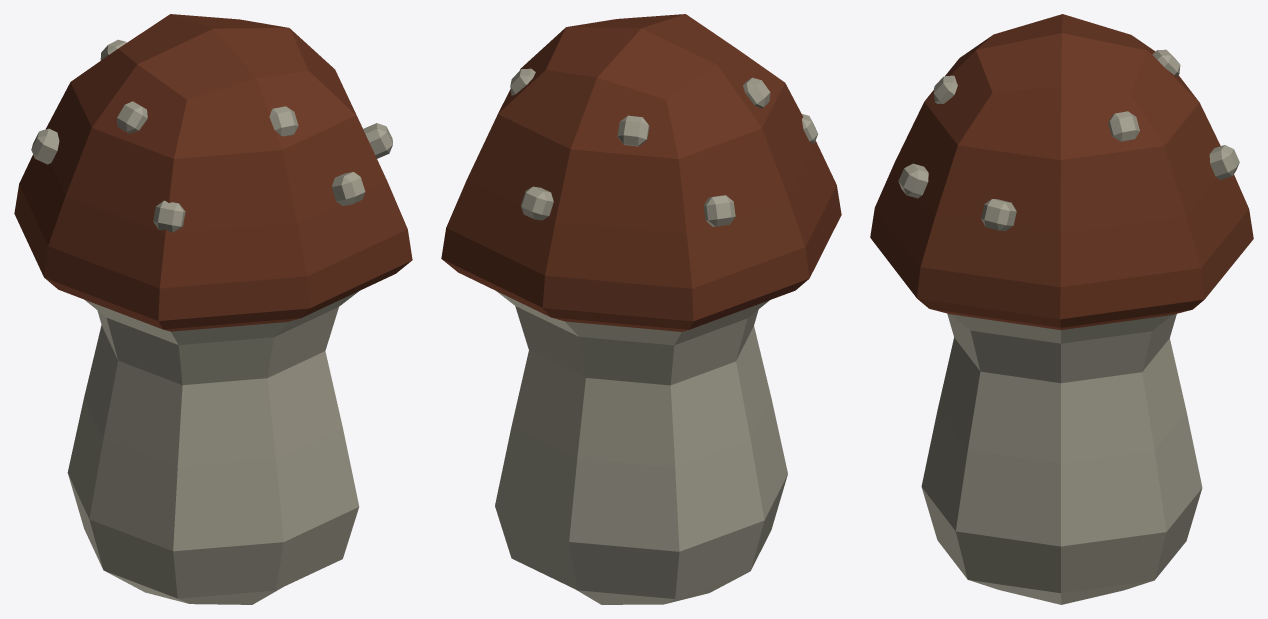
Rendered from Mushroom_2.gltf.
3 renders of one model, left to right at view 1: azimuth 30°, elevation 25°; view 2: azimuth 150°, elevation 25°; view 3: azimuth 270°, elevation 25°, orthographic.
Parts seen in each view (by area): view 1: Mushroom_2; view 2: Mushroom_2; view 3: Mushroom_2.
Boxes of the visible parts, x1=… form: Mushroom_2: x1=14, y1=14, x2=412, y2=604; Mushroom_2: x1=441, y1=14, x2=841, y2=604; Mushroom_2: x1=870, y1=14, x2=1253, y2=604.
Bounding box in the file's own units: 0.1415 × 0.2237 × 0.1415.
